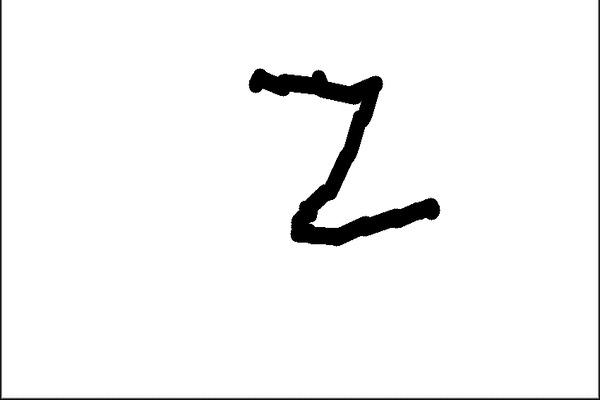Z: (237, 59, 455, 254)
